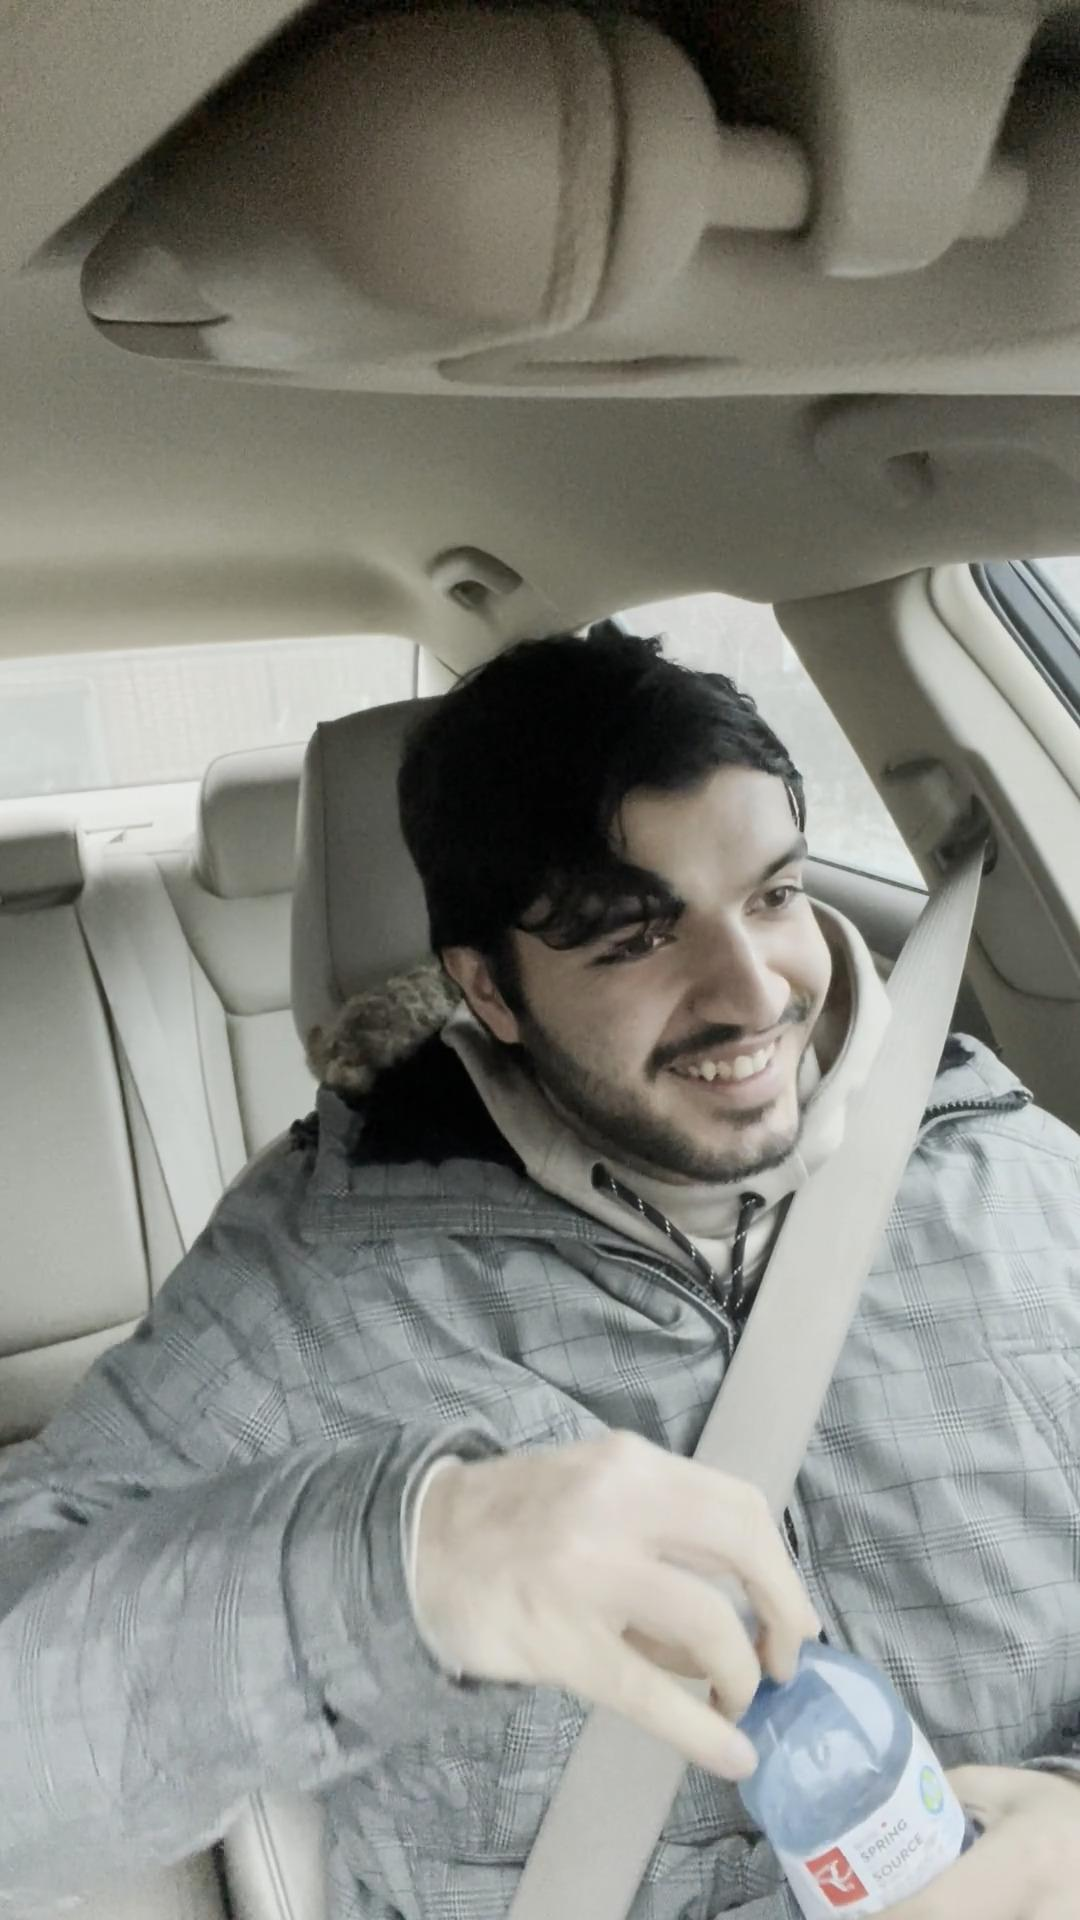drinking: (680, 1585, 1080, 1920)
seatbelt: (335, 1125, 1080, 1920)
